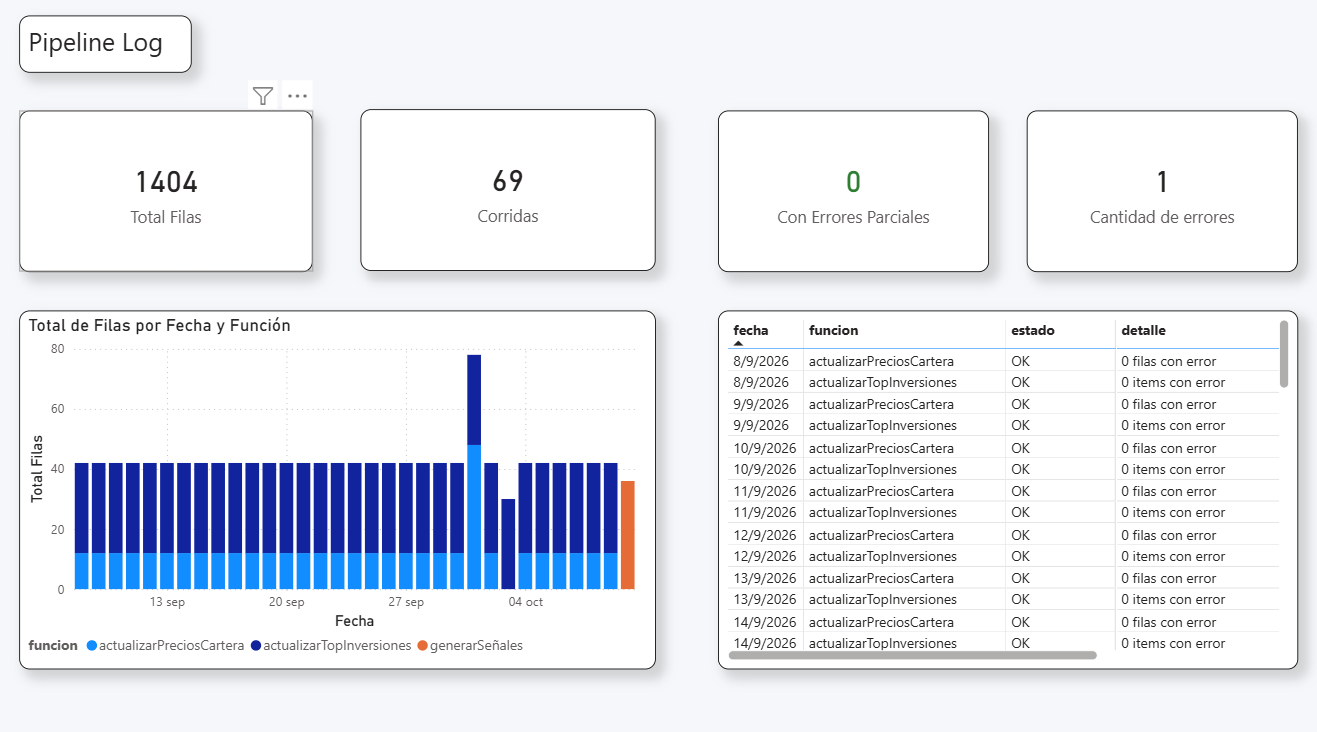

The page's visual inventory and layout, read from the dashboard file:
{"tool":"powerbi","page":{"name":"Pipeline Log","canvas":[1280,720],"ordinal":3},"visuals":[{"type":"card","fields":{"Values":["Medidas Pipeline.Total Filas"]},"box":[25.5,112.8,283.4,155.8],"z":0},{"type":"card","fields":{"Values":["Medidas Pipeline.Errores"]},"box":[997.9,112.8,261.9,155.8],"z":1000},{"type":"card","fields":{"Values":["Medidas Pipeline.Con Errores Parciales"]},"box":[699.8,112.8,261.9,155.8],"z":2000},{"type":"card","fields":{"Values":["Medidas Pipeline.Corridas"]},"box":[355.9,112.8,284.7,155.8],"z":3000},{"type":"columnChart","title":"Total de Filas por Fecha y Función","fields":{"Category":["Calendario.Fecha"],"Y":["Medidas Pipeline.Total Filas"],"Series":["Pipeline_log.funcion"]},"box":[0,306.2,640.7,346.5],"z":4000},{"type":"tableEx","fields":{"Values":["Pipeline_log.fecha","Pipeline_log.funcion","Pipeline_log.estado","Pipeline_log.detalle"]},"box":[699.8,306.2,560.1,346.5],"z":5000},{"type":"textbox","box":[25.5,21.5,166.5,55.1],"z":5001}]}

Visuals, with their boxes in screenshot pixels (x1, y1, x2, y2), scaled from the page's 1280x720 canvas onto the 1317x732 screenshot:
card - Medidas Pipeline.Total Filas: box(26, 115, 318, 273)
card - Medidas Pipeline.Errores: box(1027, 115, 1296, 273)
card - Medidas Pipeline.Con Errores Parciales: box(720, 115, 989, 273)
card - Medidas Pipeline.Corridas: box(366, 115, 659, 273)
"Total de Filas por Fecha y Función" columnChart: box(0, 311, 659, 664)
tableEx - Pipeline_log.fecha x Pipeline_log.funcion: box(720, 311, 1296, 664)
textbox: box(26, 22, 198, 78)
